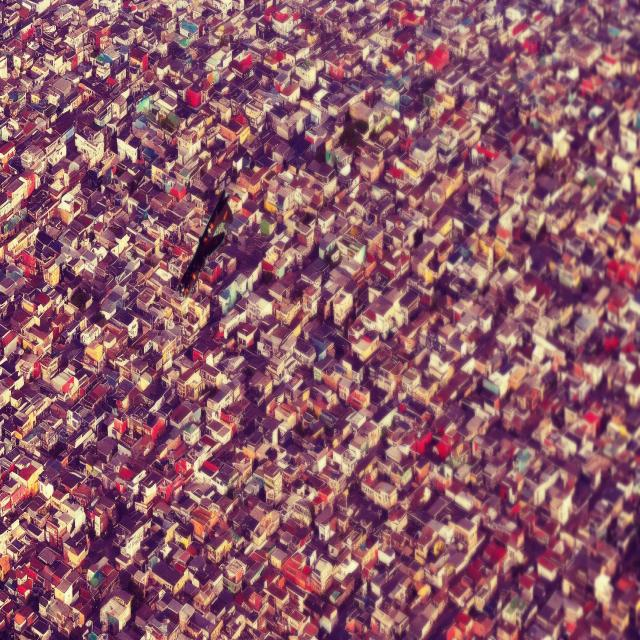airplane: (178, 188, 235, 297)
